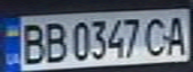0: (69, 18, 90, 63)
3: (87, 17, 109, 61)
4: (106, 16, 127, 60)
7: (121, 15, 145, 58)
A: (163, 12, 190, 56)
B: (15, 19, 48, 65), (39, 19, 69, 64)
C: (142, 14, 172, 57)
